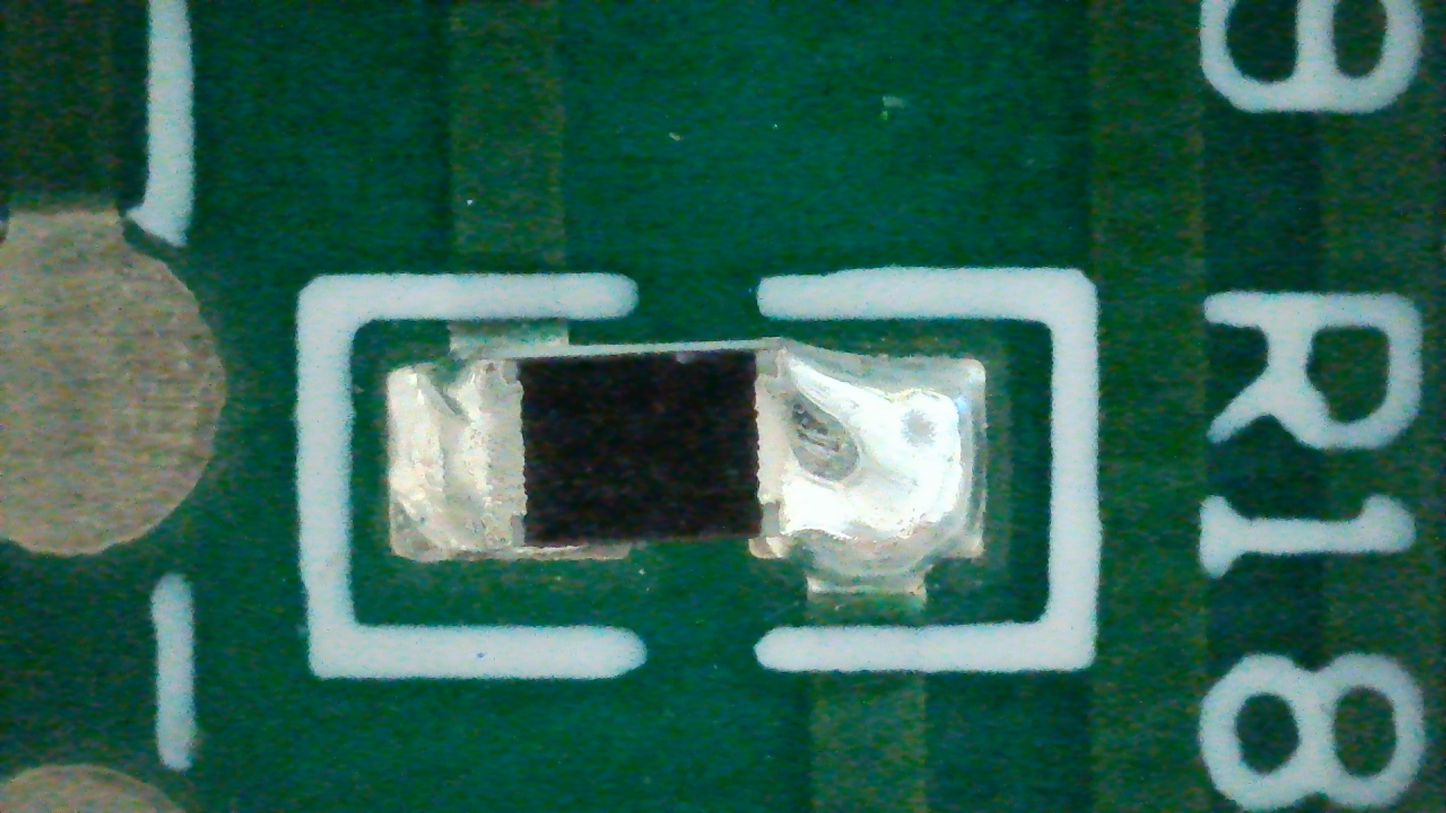OK: (389, 339, 987, 600)
